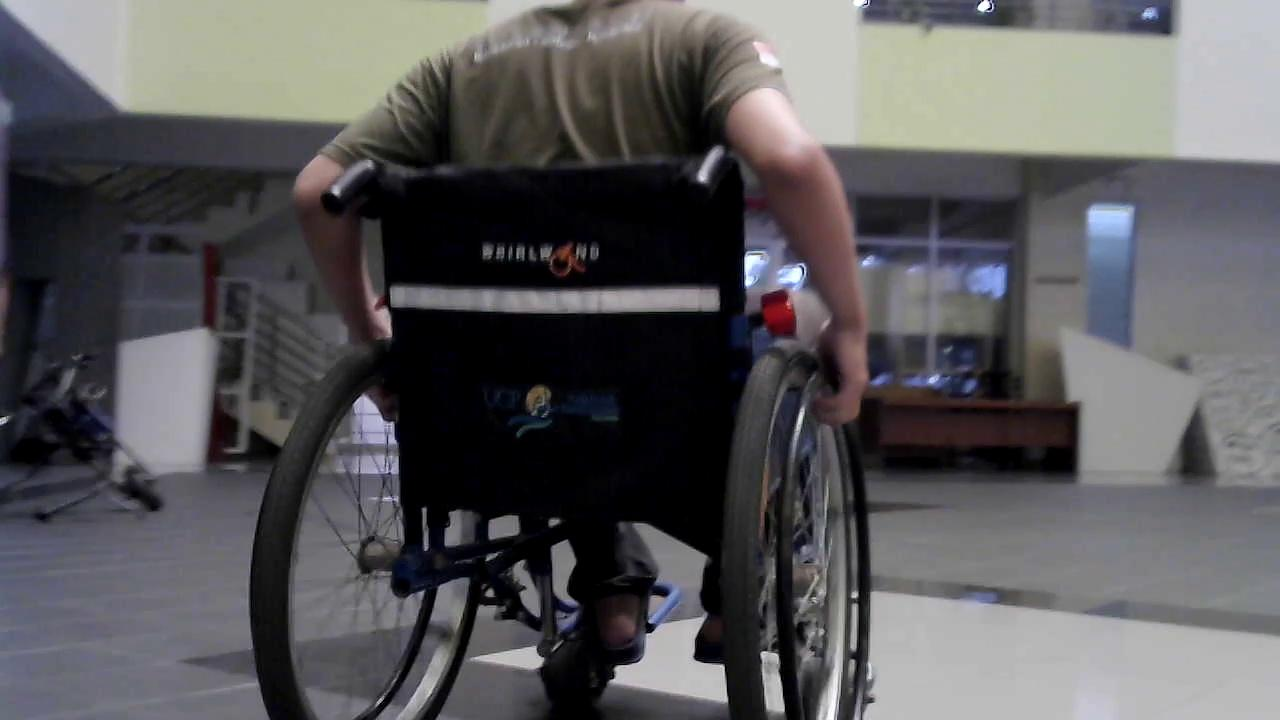person: (285, 2, 875, 697)
wheelchair: (199, 146, 889, 720)
